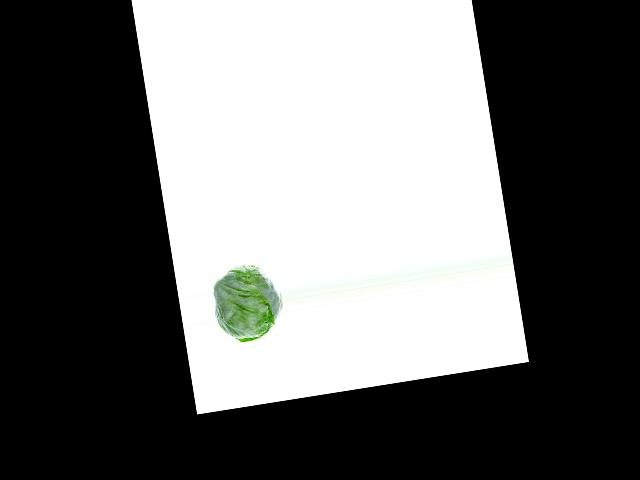lettuce: (212, 261, 285, 343)
